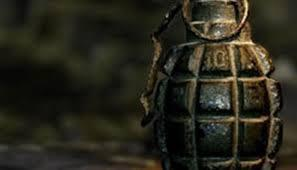Grenade: (138, 0, 283, 169)
